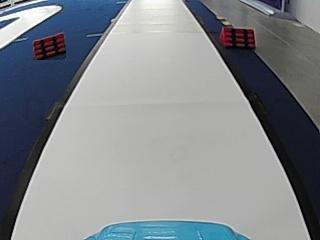bomb: (218, 26, 256, 47)
